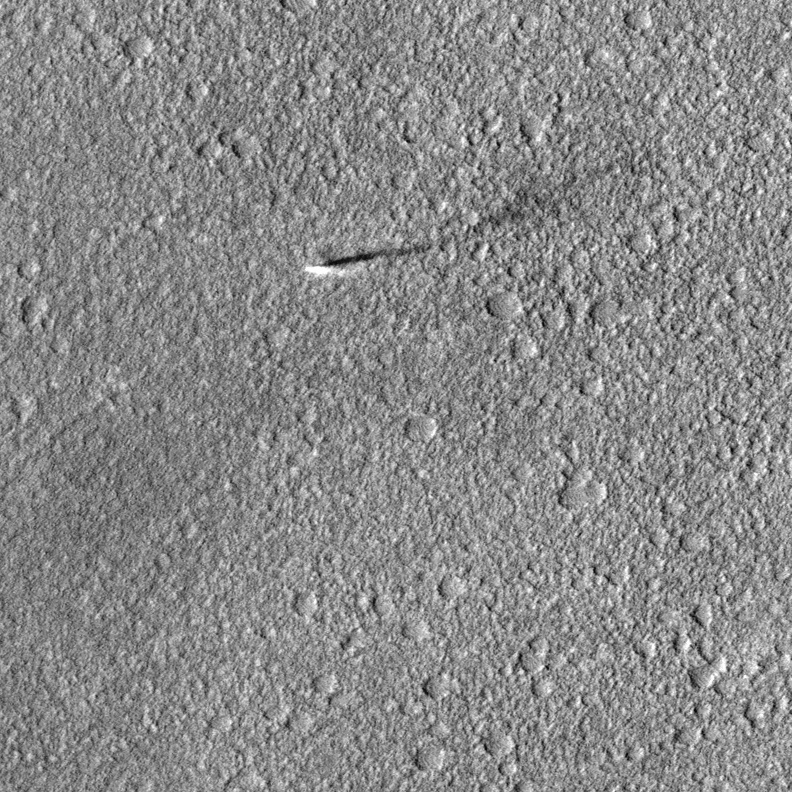dust_devil: (302, 189, 562, 281)
